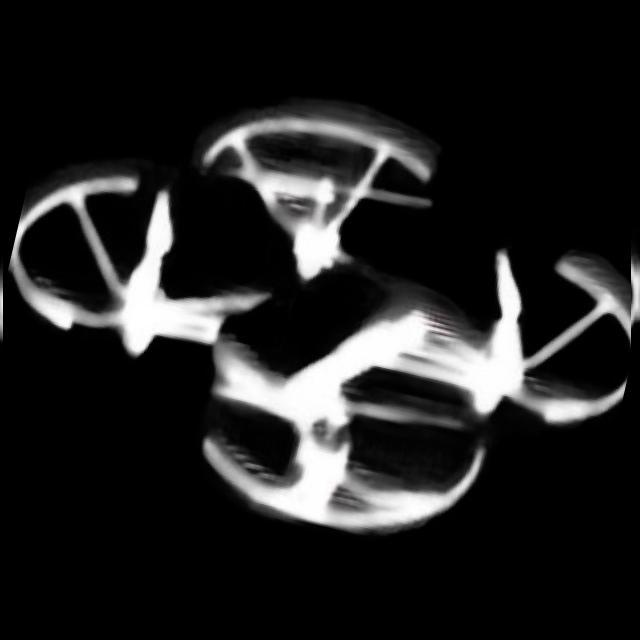drone: (3, 72, 631, 578)
